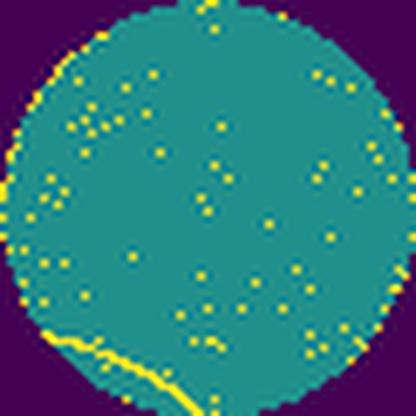Scratch: (39, 325, 208, 416)
